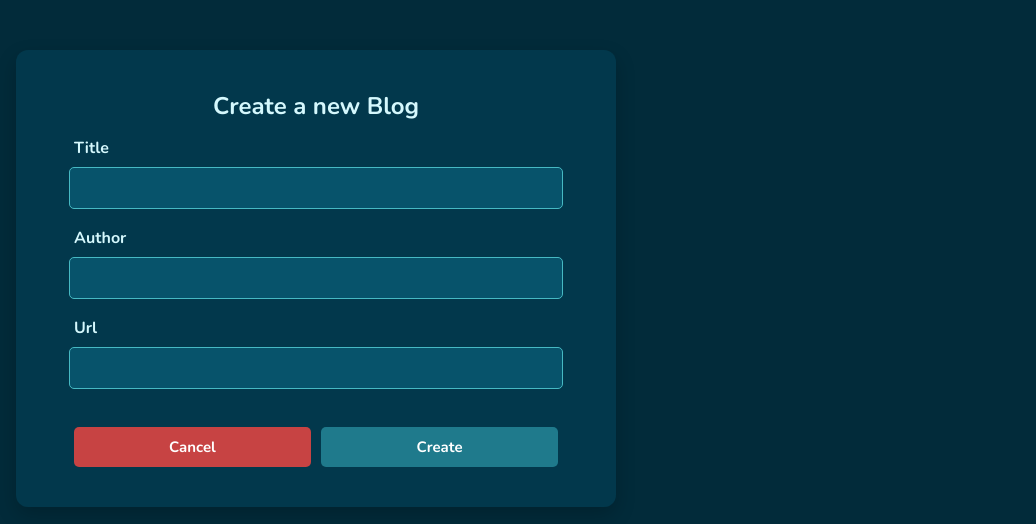
it: < BlogForm /> › should display an error toast message when the create method fails
This screenshot has width=1036, height=524.
Expected: the field with test id "title" is empty, left=69, top=167, right=563, bottom=209
Expected: the field with test id "author" is empty, left=69, top=257, right=563, bottom=299
Note: user clicks the create button
Click the button "Create". click: (440, 447)
box: left=321, top=427, right=558, bottom=467
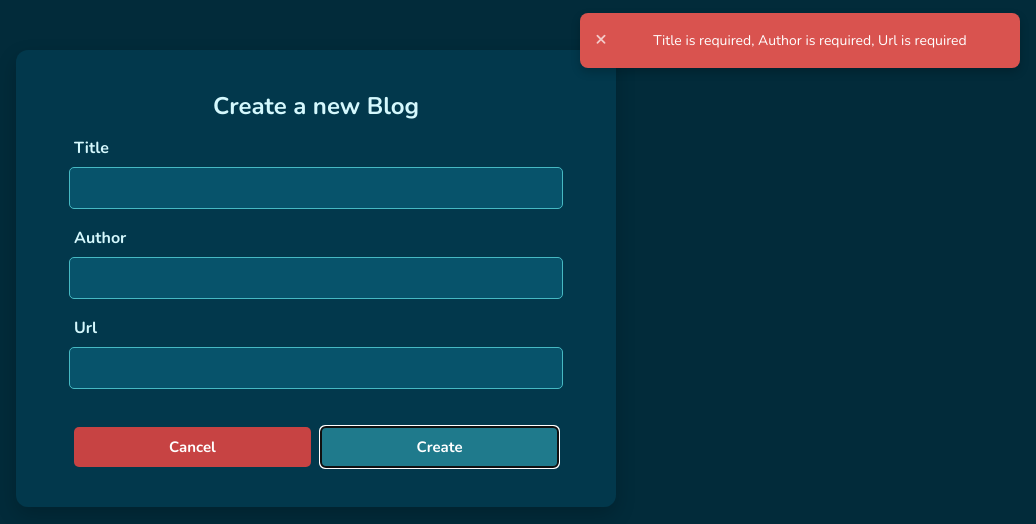
Expected: the element with test id "toast-message" is shown, left=580, top=13, right=1020, bottom=68
